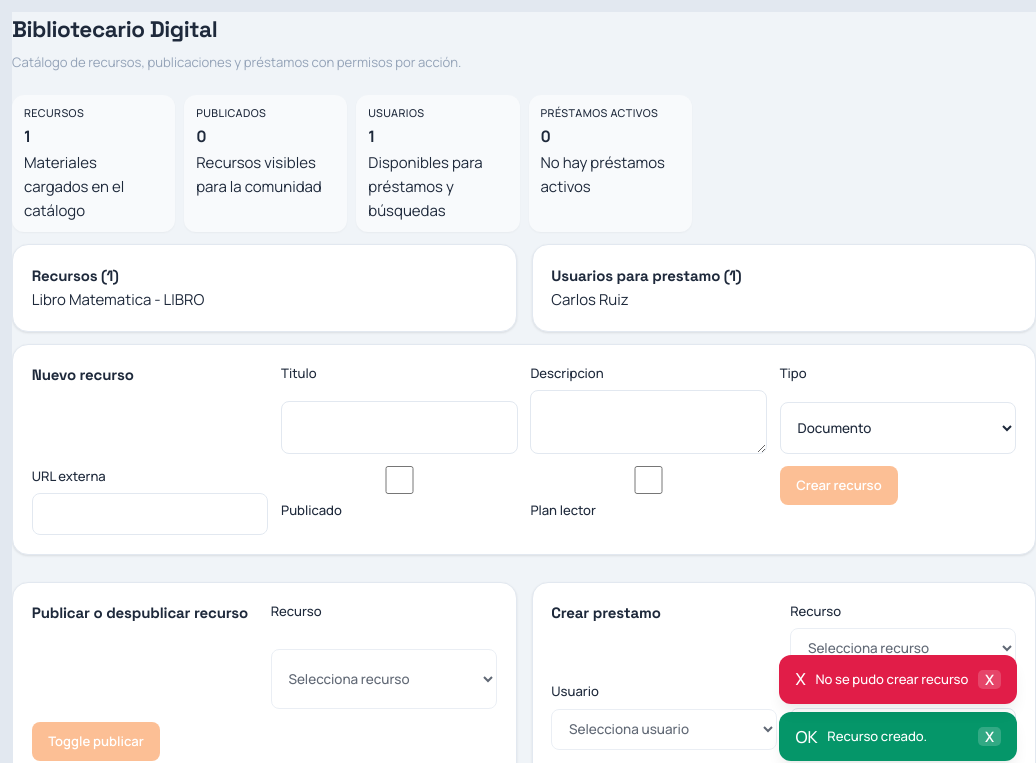
Test: BibliotecarioDigitalPage › shows saving state while creating resource
This screenshot has width=1036, height=763.
Expected: the heading "Recursos (1)" is shown, [32, 266, 119, 285]
Type "Guia de Historia" into the field labelled "Titulo" at (399, 428), box [281, 401, 518, 454]
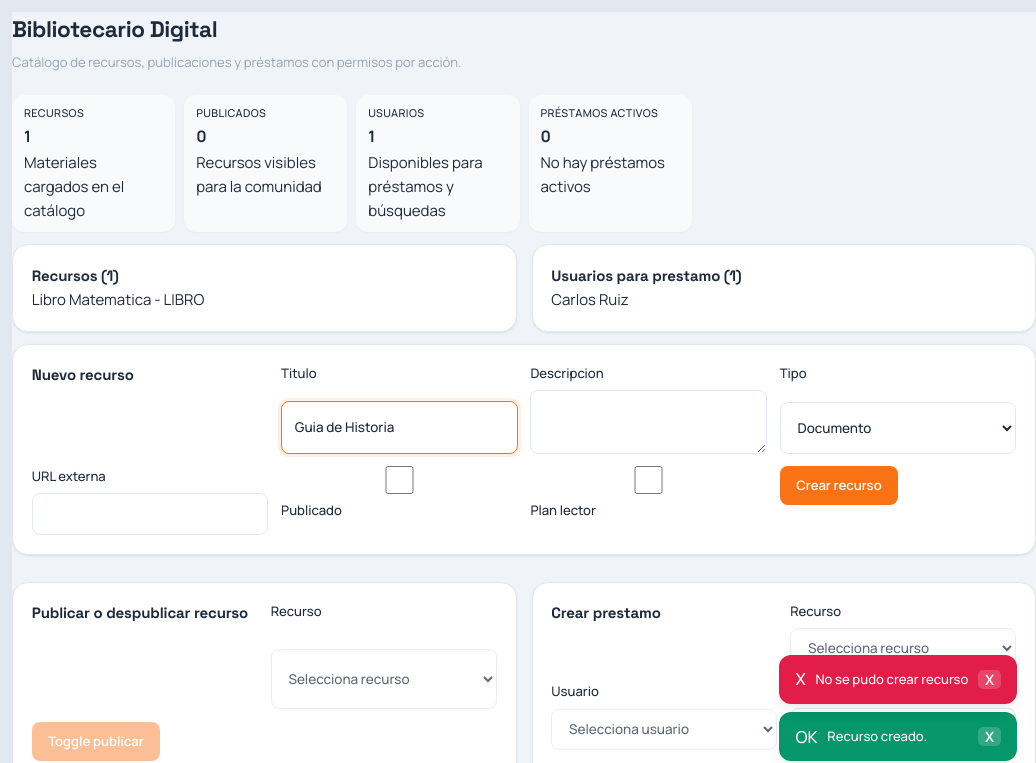
Click the button "Crear recurso" at (839, 486), box [780, 466, 898, 505]
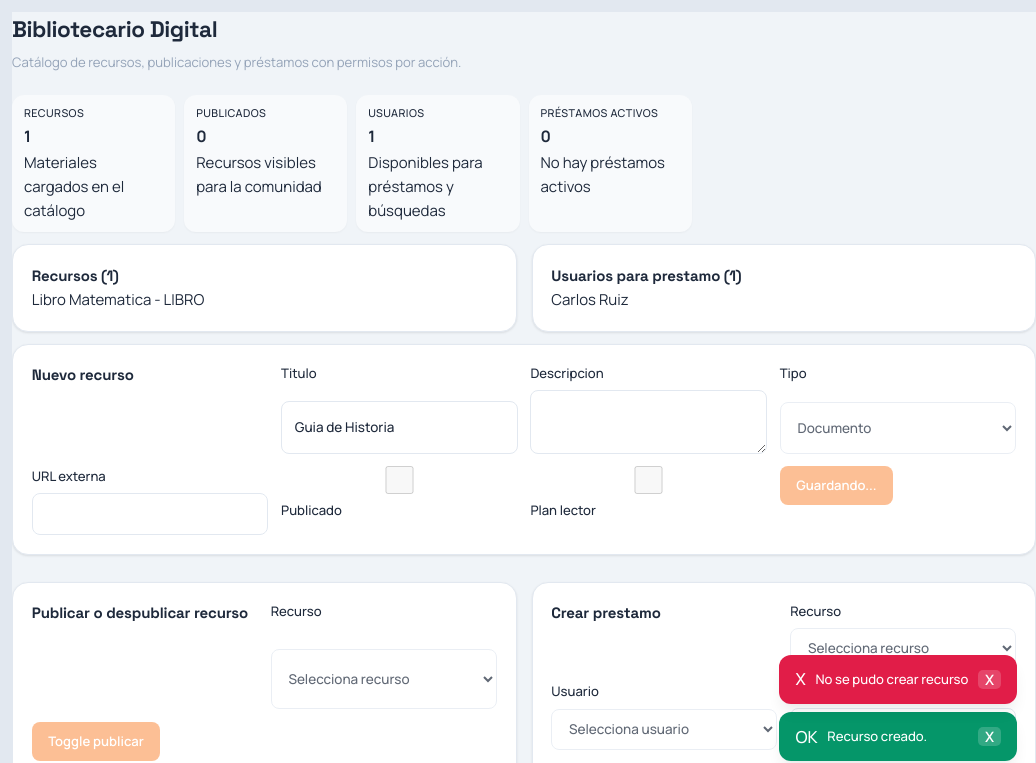
Expected: the button "Guardando..." is disabled, [780, 466, 893, 505]
